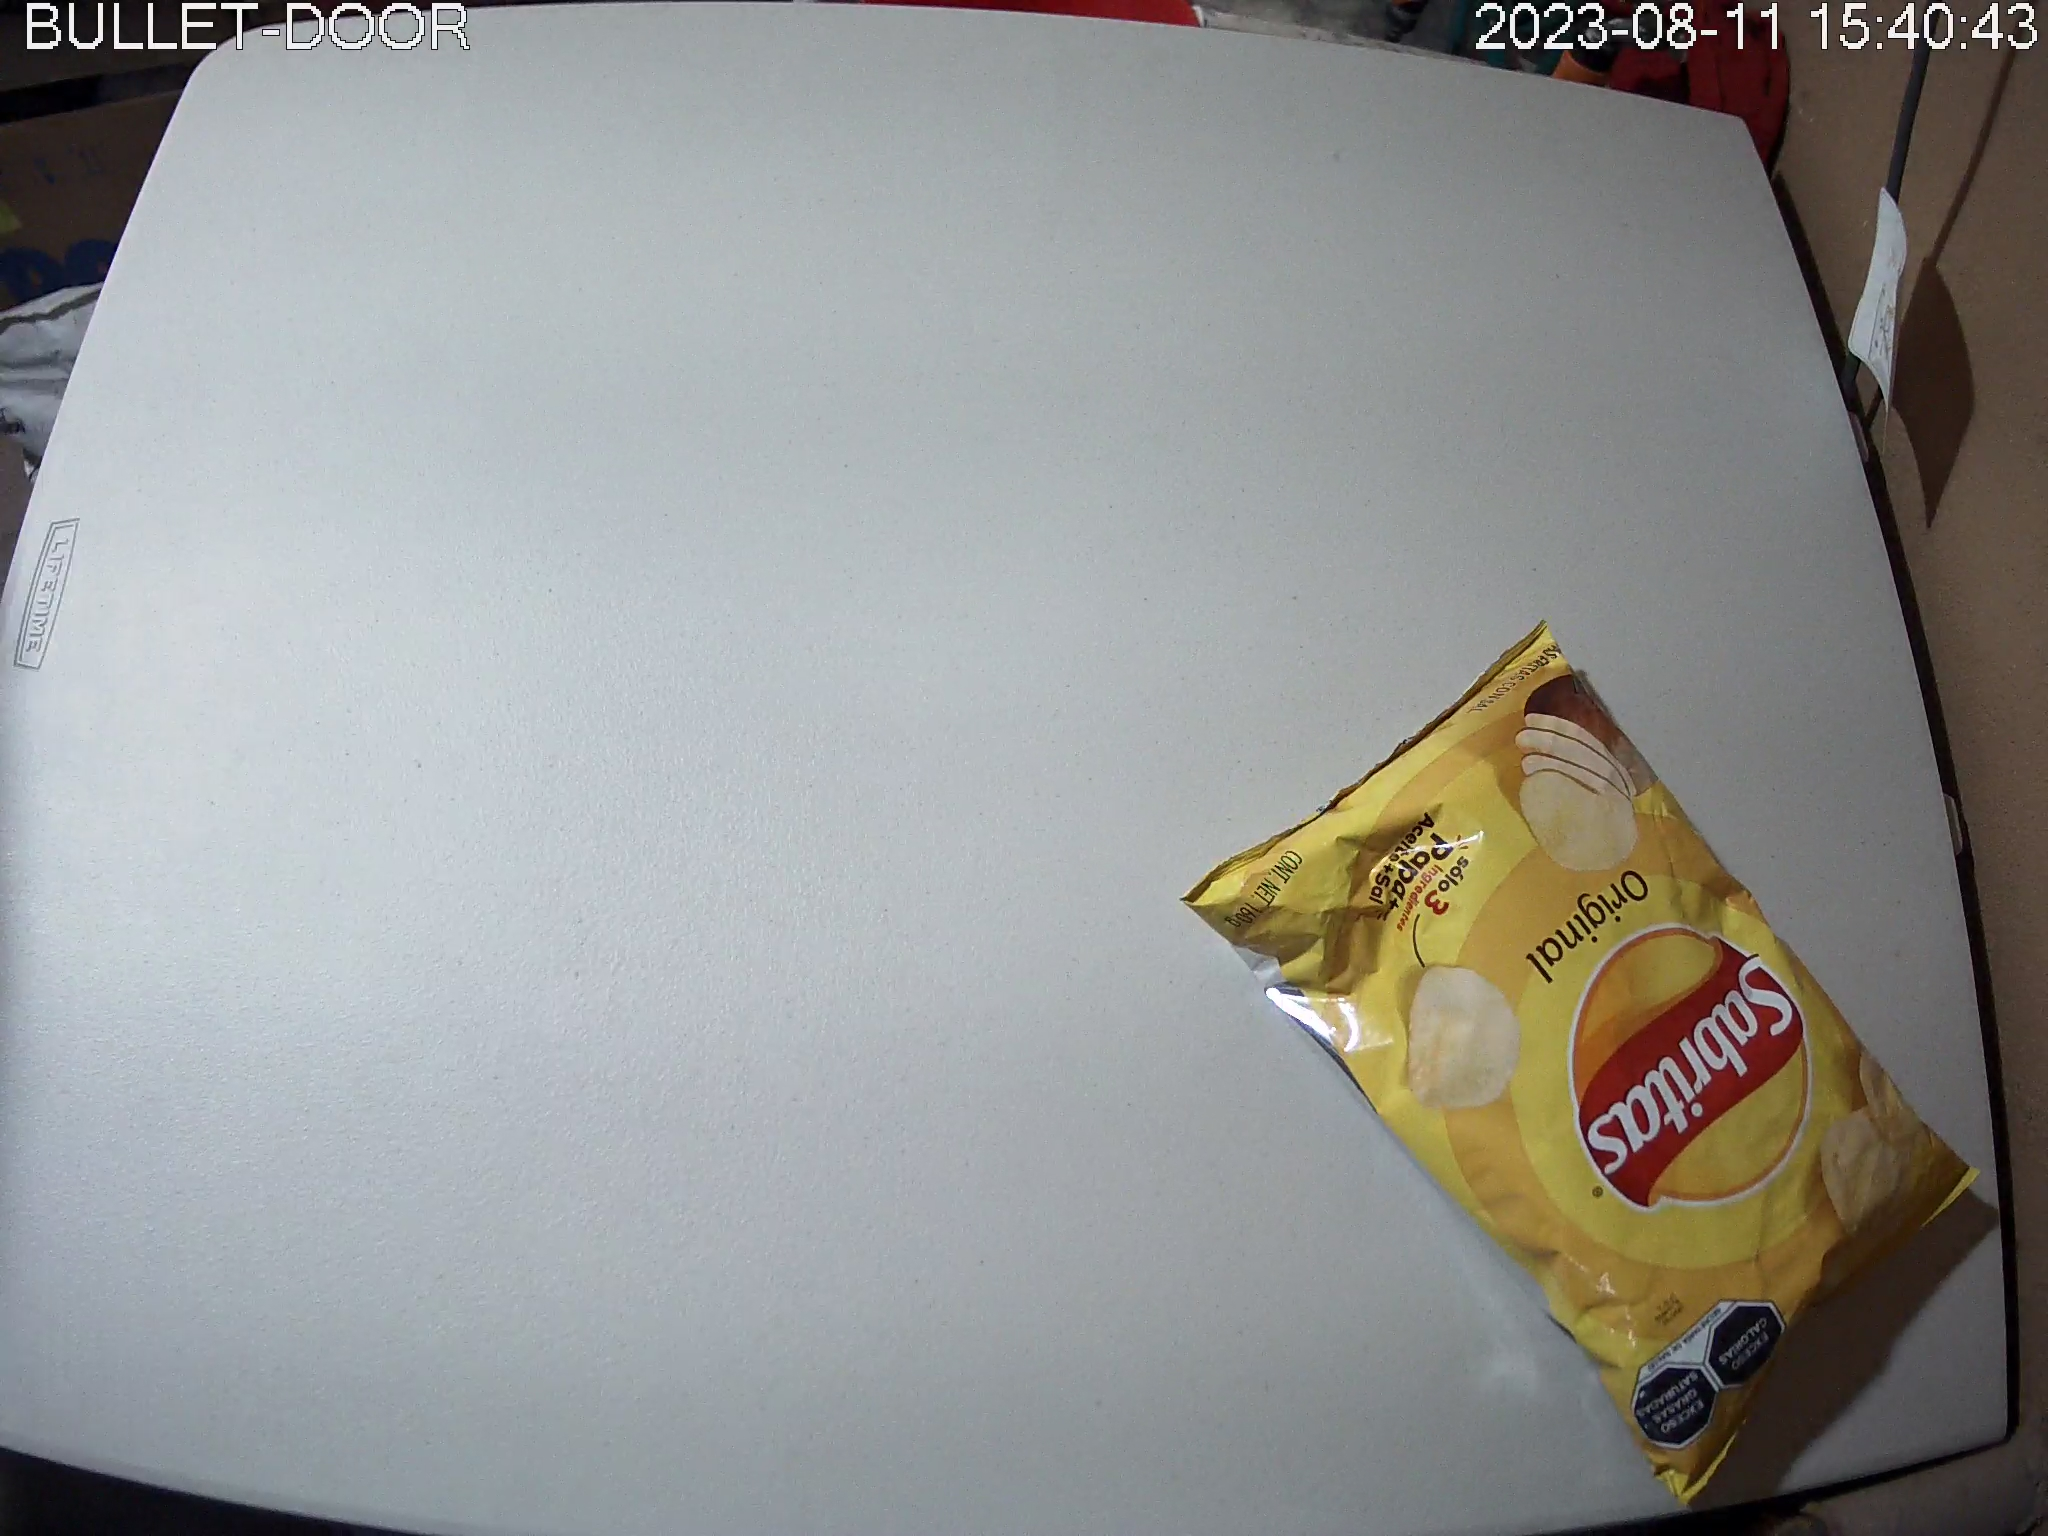Sabritas_160_F: (1179, 618, 1979, 1509)
